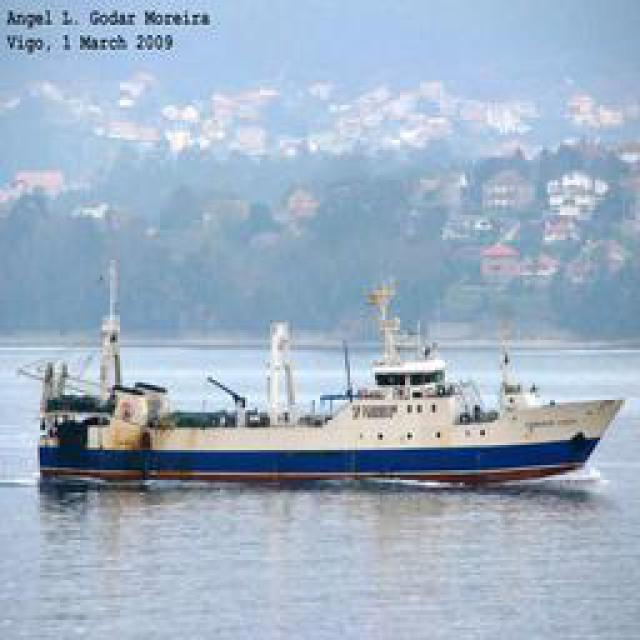Ship: (10, 311, 635, 486)
